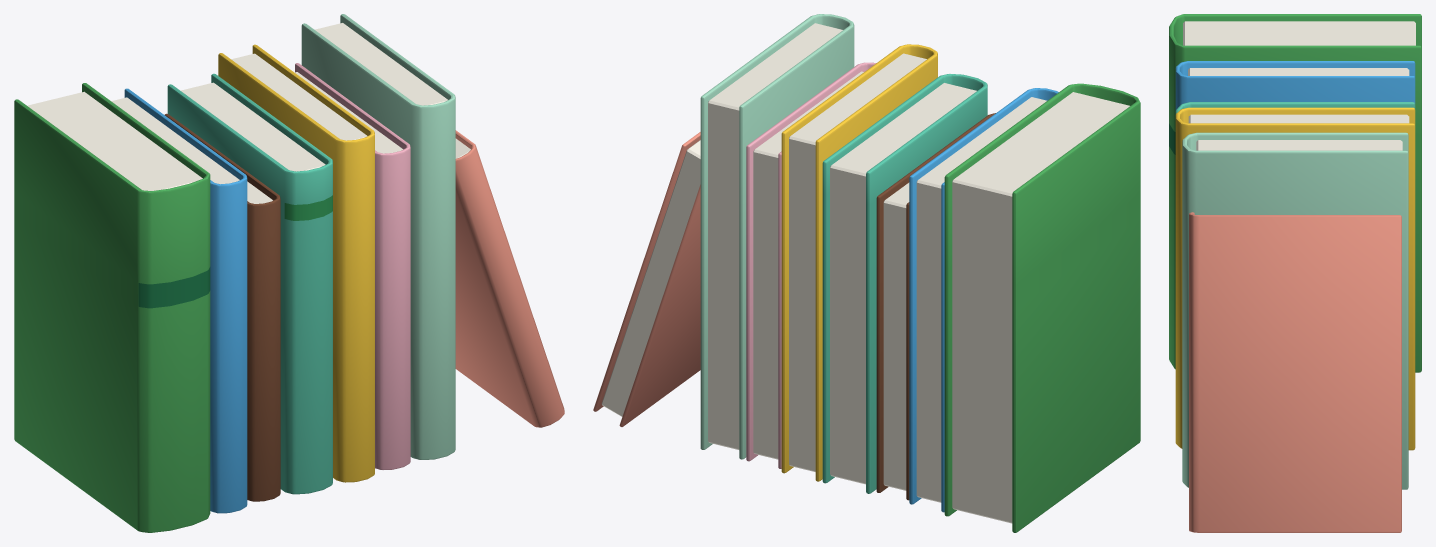
File: livros_fileira_escada.glb
3 views of the same model, side by side, from view 1: azimuth 30°, elevation 25°; view 2: azimuth 150°, elevation 25°; view 3: azimuth 270°, elevation 25° (orthographic). The views are drawn at different scales.
Visible parts, largest first — view 1: livros_fileira_escada; view 2: livros_fileira_escada; view 3: livros_fileira_escada.
Part boxes in pixels (x1,y1,x2,y2): livros_fileira_escada: (14,14,564,532); livros_fileira_escada: (593,14,1140,532); livros_fileira_escada: (1169,14,1421,532).
Size of the model in its own units: 0.3594 by 0.28 by 0.1895.
Materials: 1 (1 with a texture image).
